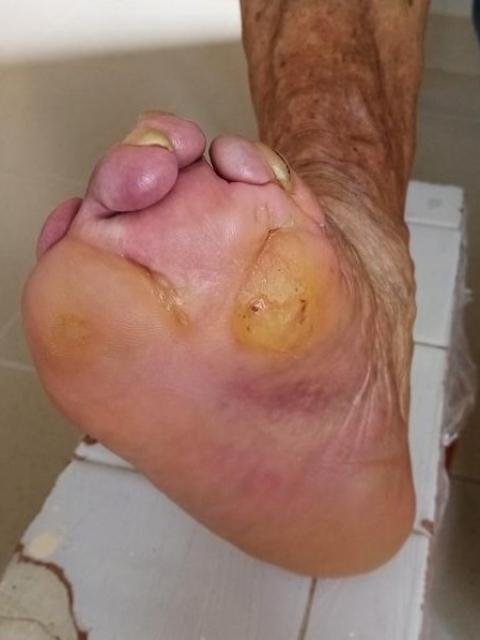wound: (122, 255, 183, 324), (262, 226, 285, 249), (247, 297, 268, 319), (300, 299, 308, 324)
